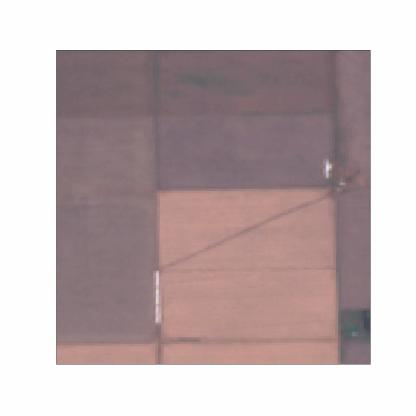silobolsa: (154, 268, 162, 326), (323, 157, 332, 181)
